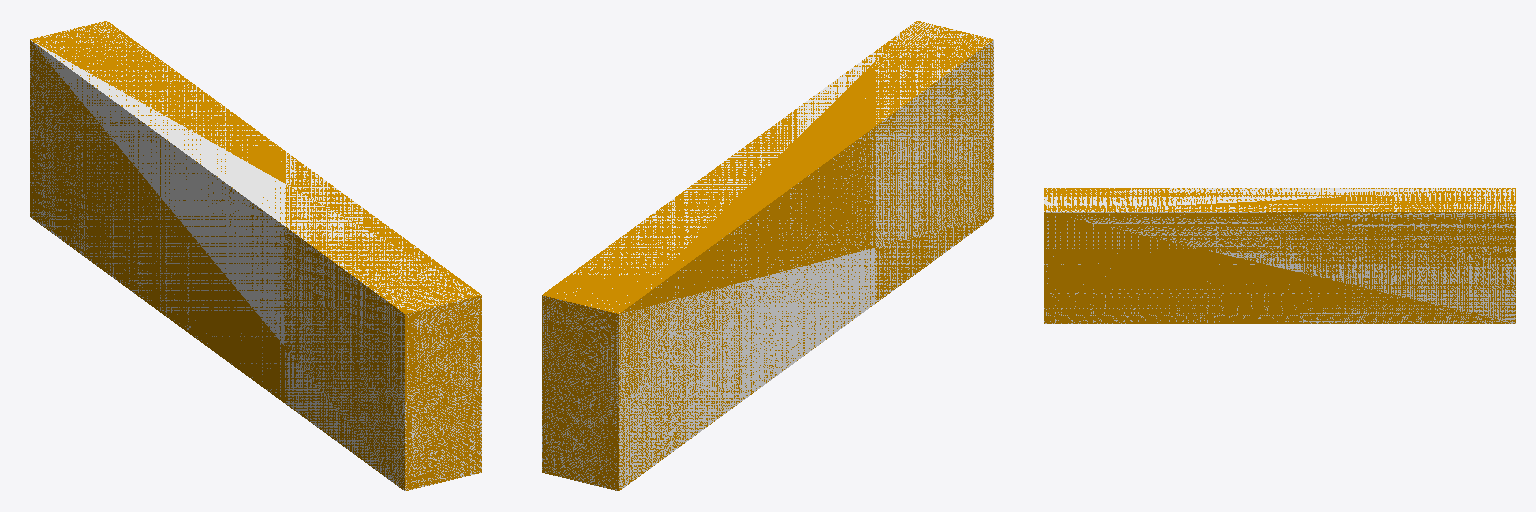
URDF robot description (my_object):
<?xml version="1.0" ?> 
<robot name="my_object" static="true">
  <link name="base_link">
  <inertial>
    <mass value="0.520" />
    <origin xyz="0 0 0.0" />
    <inertia ixx="1.0" ixy="0.0" ixz="0.0" iyy="1.0" iyz="0.0" izz="1.0"/>
  </inertial>
  <visual>
   <origin xyz="0 0 0.0" rpy="0 0 0" />
   <geometry>
     <mesh filename="package://cob_gazebo_objects/Media/models/spaghetti.dae"/>
   </geometry>
  </visual>
  <collision>
   <origin xyz="0 0.01 0" rpy="0 0 0" />
   <geometry>
     <box size="0.032 0.271 0.071" />
   </geometry>
  </collision>     
  </link>

<gazebo>
	<static>true</static>
</gazebo>
</robot>

--- What the picture shows (computed from the rendered views, not written in the file) ---
The picture shows the robot from 3 angles, left to right: view 1: azimuth 30°, elevation 25°; view 2: azimuth 150°, elevation 25°; view 3: azimuth 270°, elevation 25°; orthographic projection.
Model my_object with 1 links and 0 joints (none), rooted at base_link, posed every joint at zero.
Visible links, largest first — view 1: base_link; view 2: base_link; view 3: base_link.
Link boxes in pixels (<box>): base_link: <box>30,21,481,490</box>; base_link: <box>542,21,993,490</box>; base_link: <box>1044,188,1515,323</box>.
Bounding box of the posed robot: 0.0323 × 0.2705 × 0.0706 m (x, y, z).
1 mesh visuals loaded from 1 distinct referenced files (1 Collada DAE).